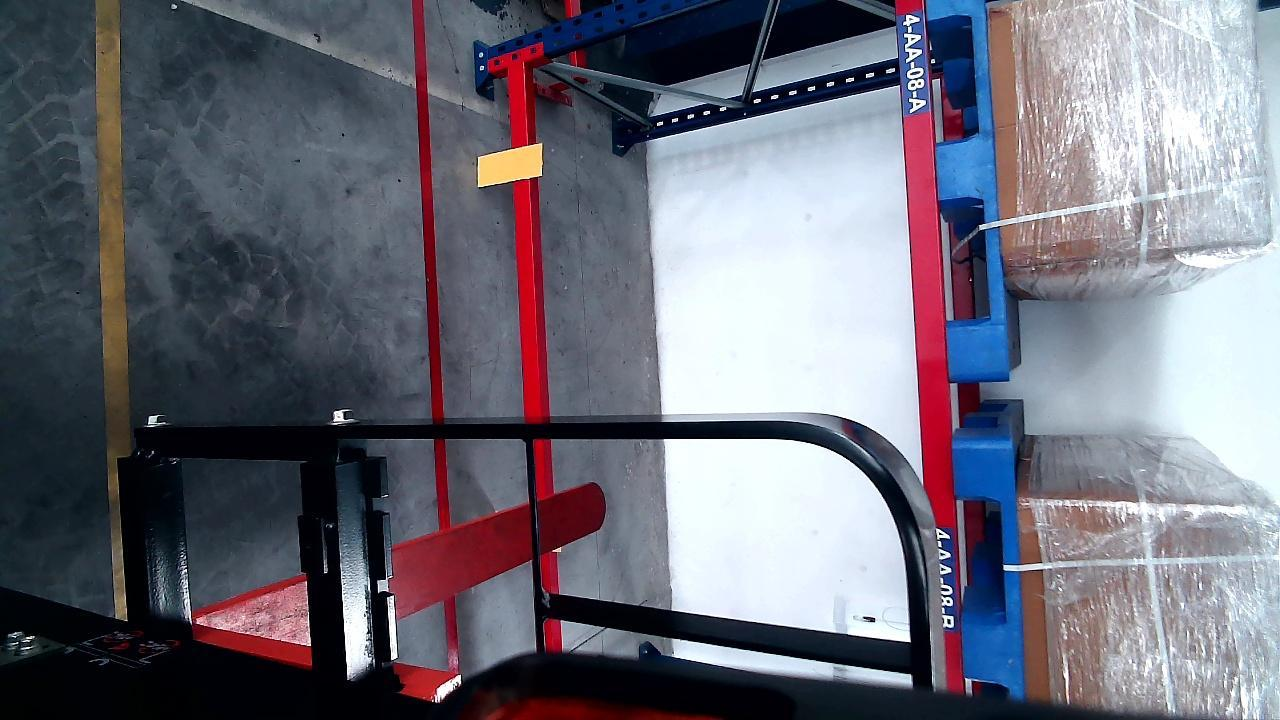yellow_line: (94, 0, 127, 617)
